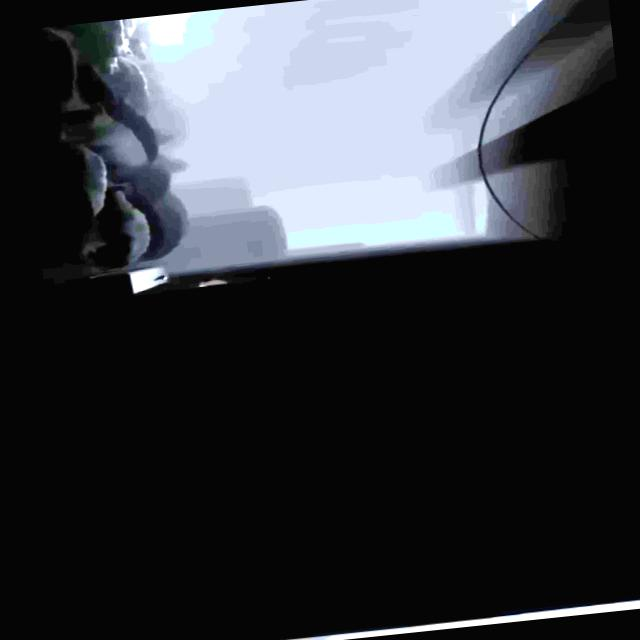boy: (152, 266, 238, 291)
